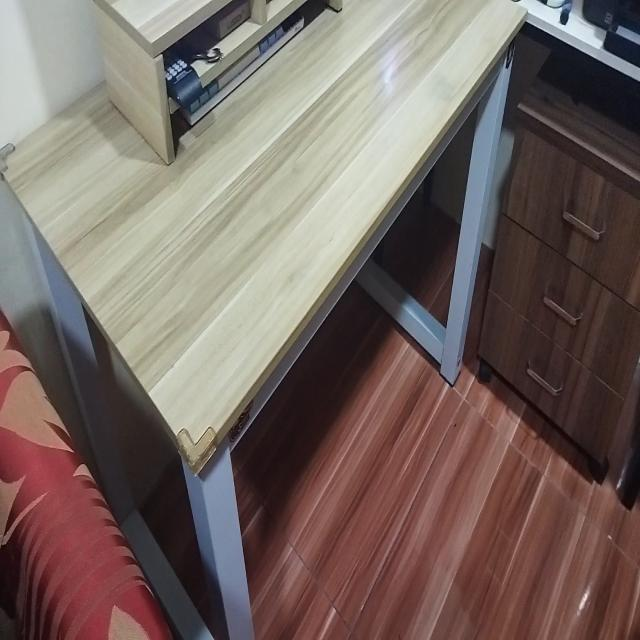table: (0, 0, 528, 640)
